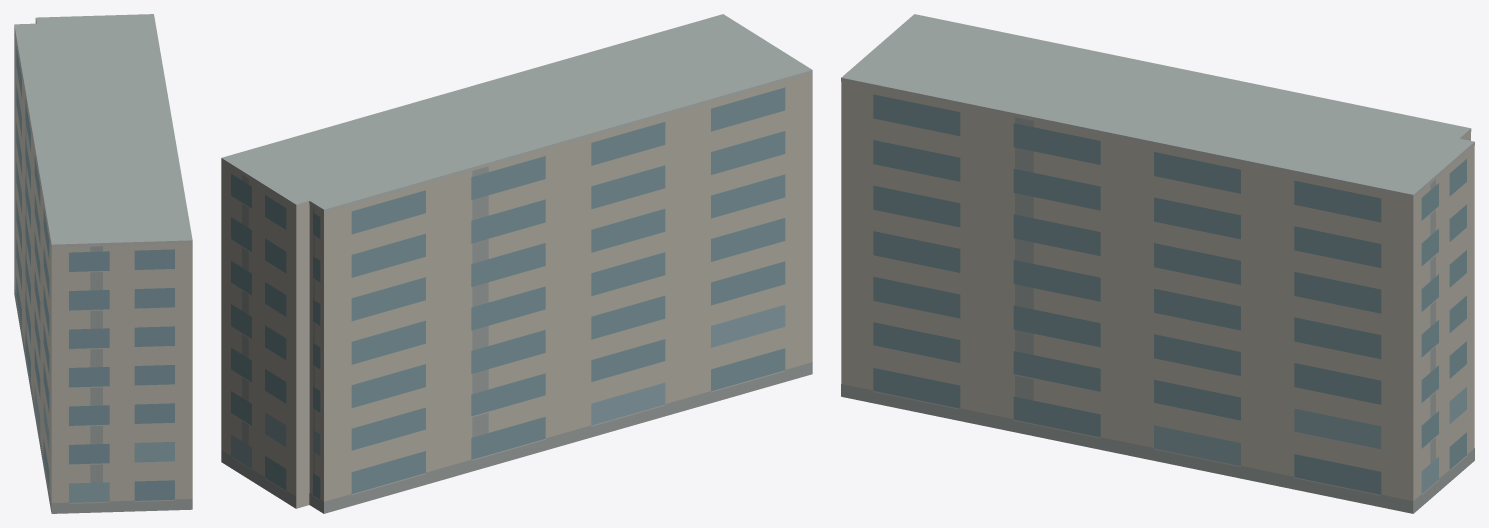
Rendered from survey-upis-32893129.glb.
The picture shows the model from 3 angles, left to right: view 1: azimuth 30°, elevation 25°; view 2: azimuth 150°, elevation 25°; view 3: azimuth 270°, elevation 25°; orthographic projection. The views are drawn at different scales.
Visible parts, largest first — view 1: survey-upis-32893129.tmp; view 2: survey-upis-32893129.tmp; view 3: survey-upis-32893129.tmp.
Part boxes in pixels (x1=…): survey-upis-32893129.tmp: x1=14, y1=14, x2=192, y2=513; survey-upis-32893129.tmp: x1=221, y1=14, x2=812, y2=513; survey-upis-32893129.tmp: x1=841, y1=14, x2=1474, y2=513.
Bounding box in the file's own units: 24.58 × 20.2 × 36.38.
